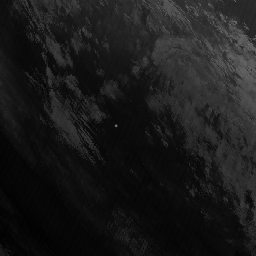Target: (112, 122, 118, 129)
